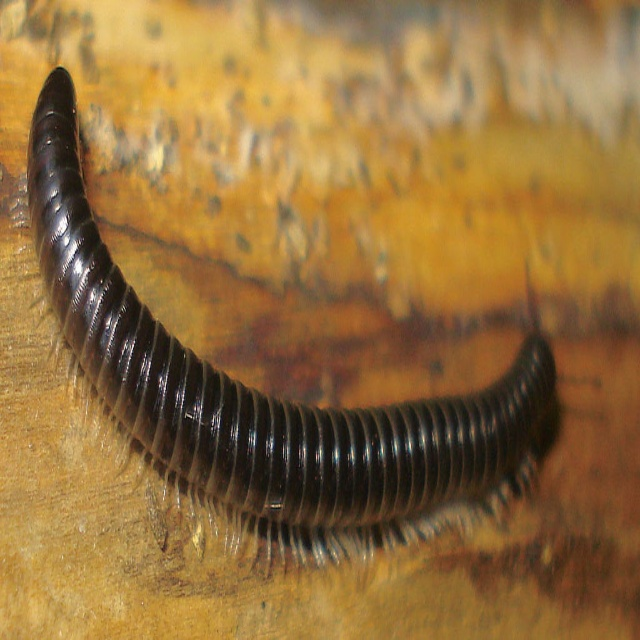Centipede: (22, 61, 558, 577)
